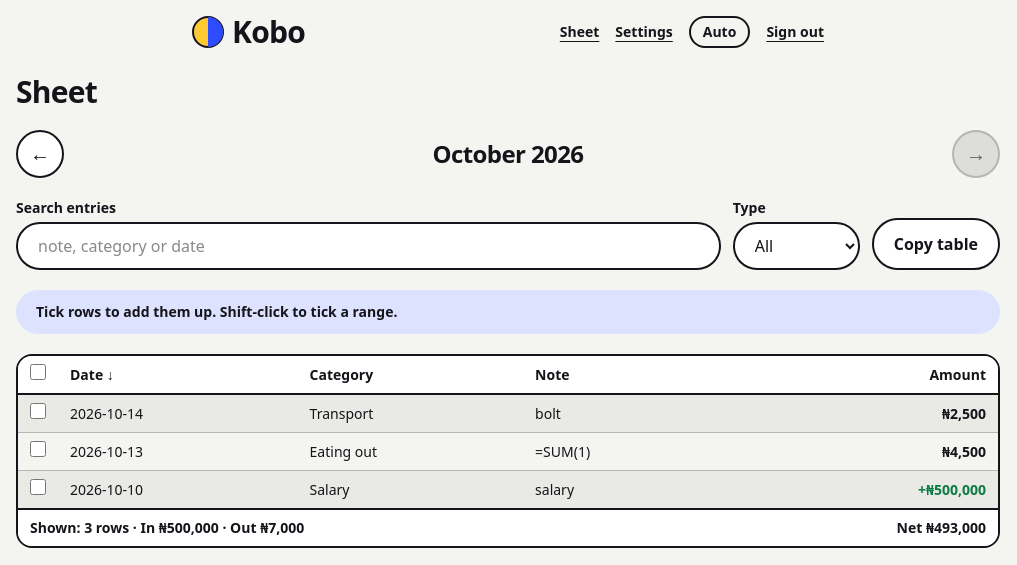
SheetPage › adds up the rows you tick
Click the checkbox named "Select bolt, 2026-10-14" at (38, 411), box 30,403 -> 46,419
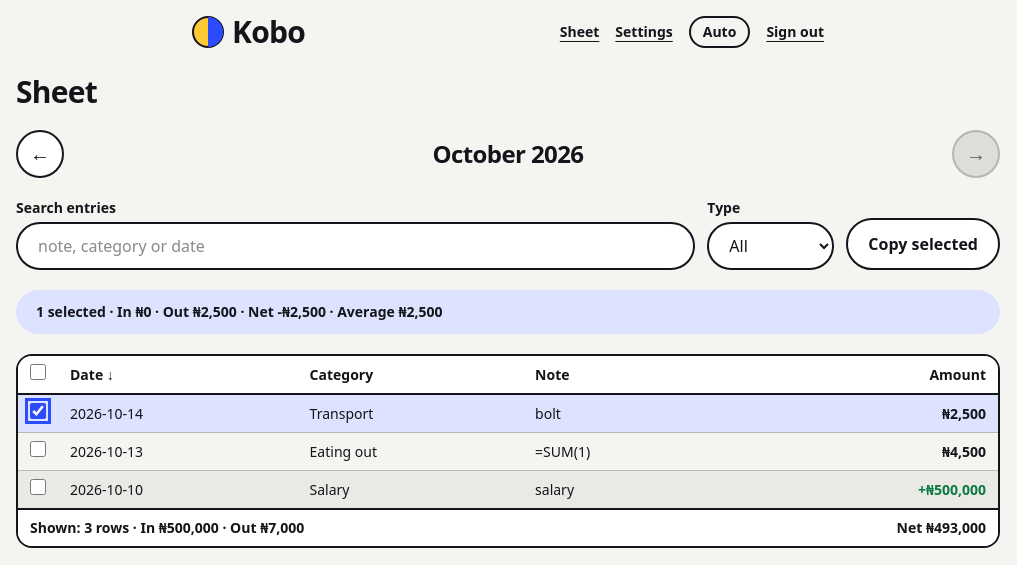
Click the checkbox named "Select =SUM(1), 2026-10-13" at (38, 449), box 30,441 -> 46,457
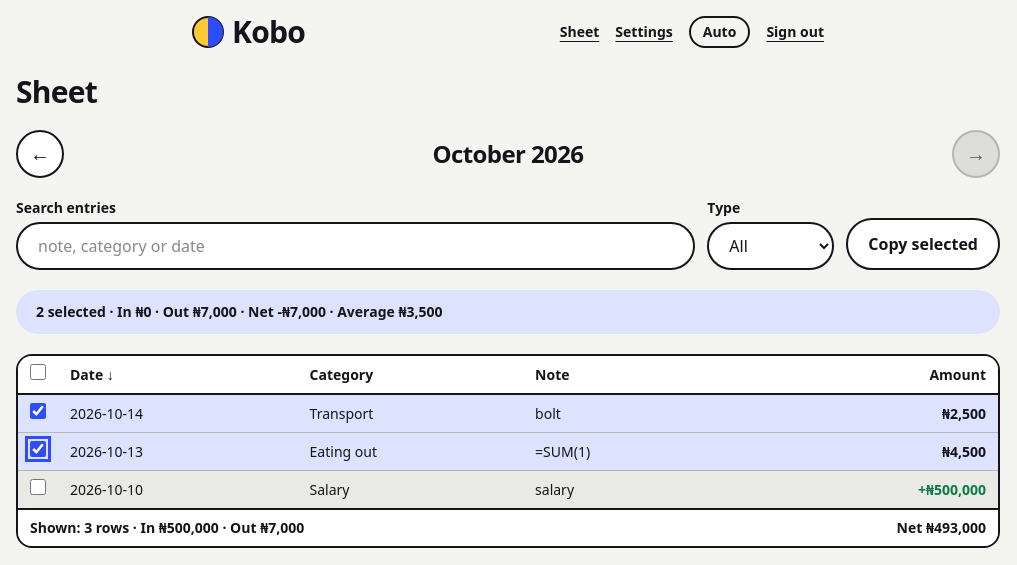
Expected: the message reads "2 selected · In ₦0 · Out ₦7,000 · Net -₦7,000 · Average ₦3,500", 36,302 -> 442,321
